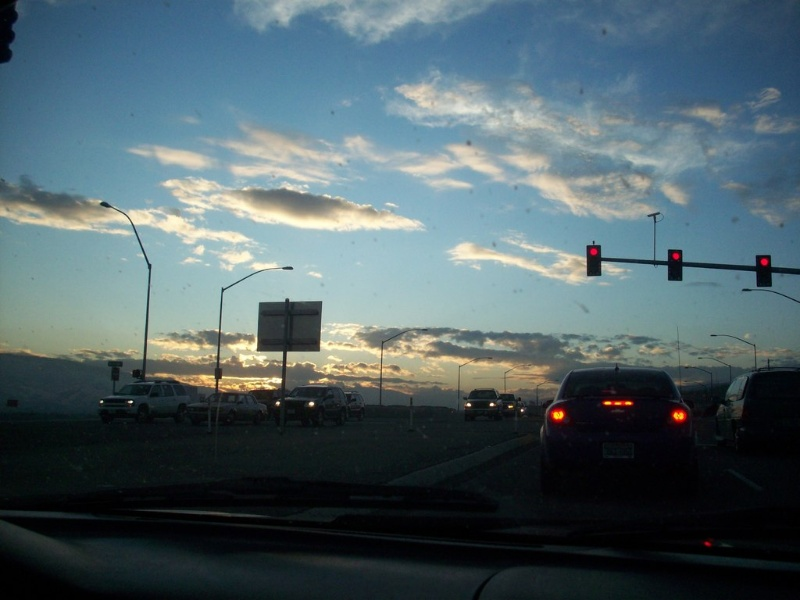red_light: (584, 244, 611, 268), (753, 254, 776, 279), (666, 247, 689, 271)
